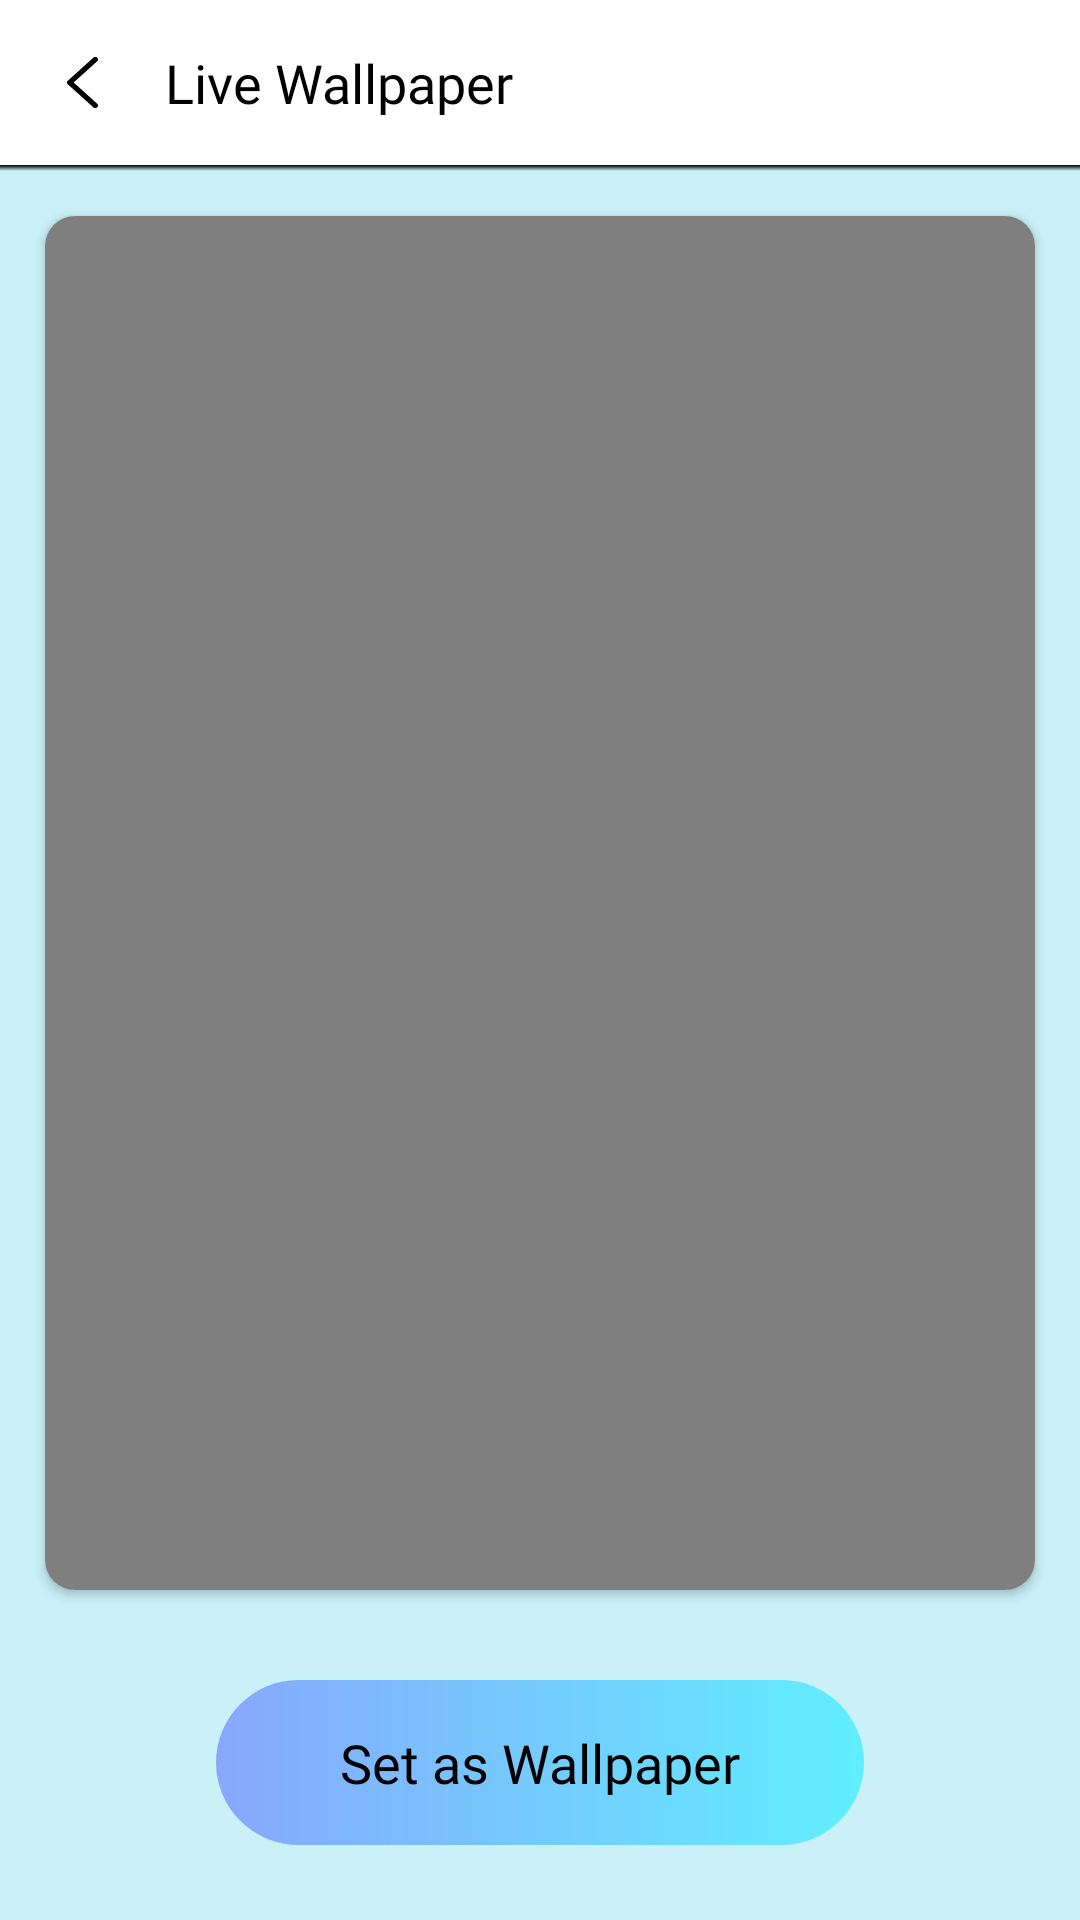

Named icons in this screenshot (1080×1920) and their bounding boxes, (x1, y1, x2, y2):
back editscreen: (67, 57, 98, 108)
